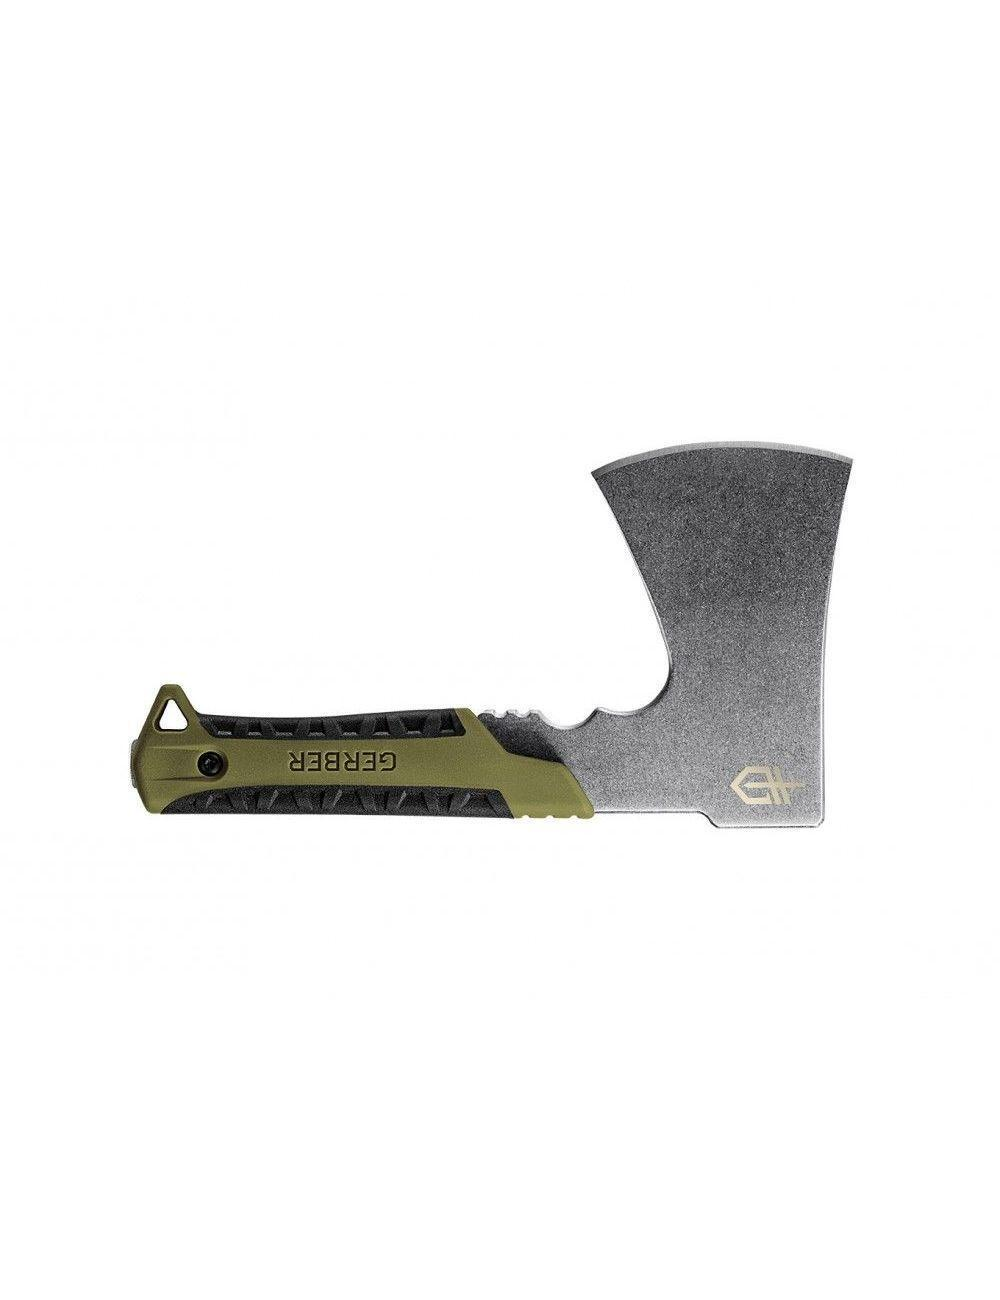machado: (131, 443, 850, 826)
